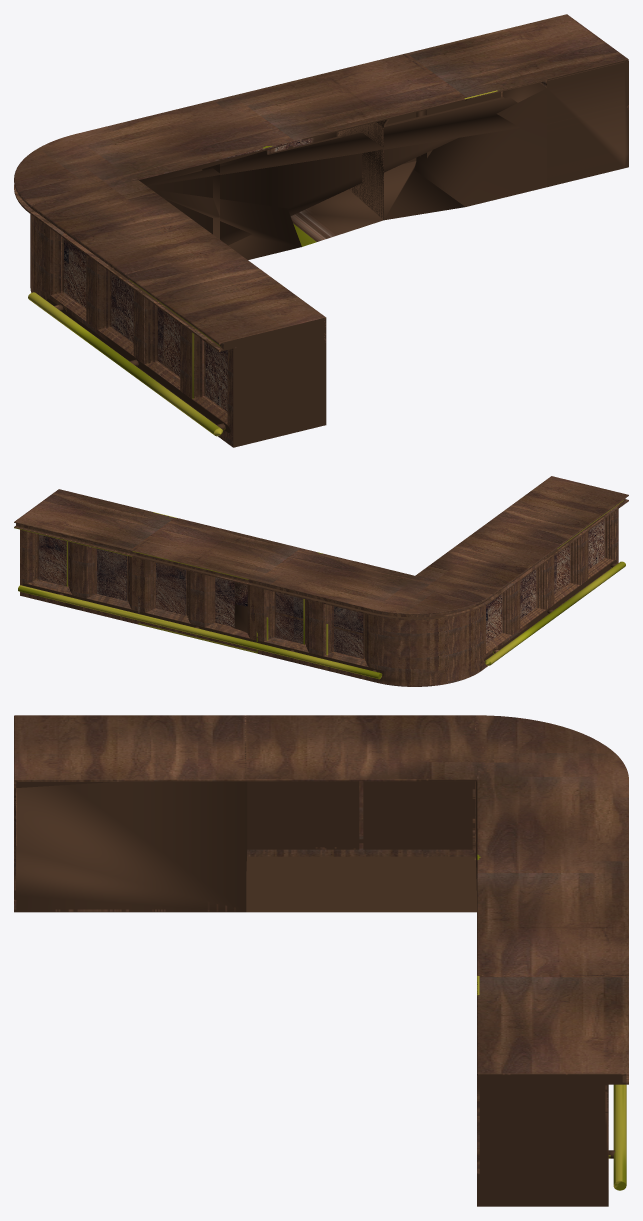
File: pubCounter.glb
3 views of the same model, one above another, from view 1: azimuth 30°, elevation 25°; view 2: azimuth 150°, elevation 25°; view 3: azimuth 270°, elevation 25° (orthographic). The views are drawn at different scales.
Parts seen in each view (by area): view 1: pub; view 2: pub; view 3: pub.
Boxes of the visible parts, box(x1,y1,x2,y2) form: pub: box(14, 14, 628, 447); pub: box(14, 476, 628, 686); pub: box(14, 715, 628, 1206).
Size of the model in its own units: 5.68 by 0.9804 by 4.11.
Materials: 1 (1 with a texture image).
